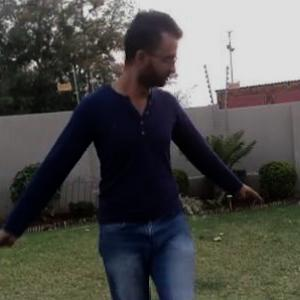land: (6, 9, 253, 299)
